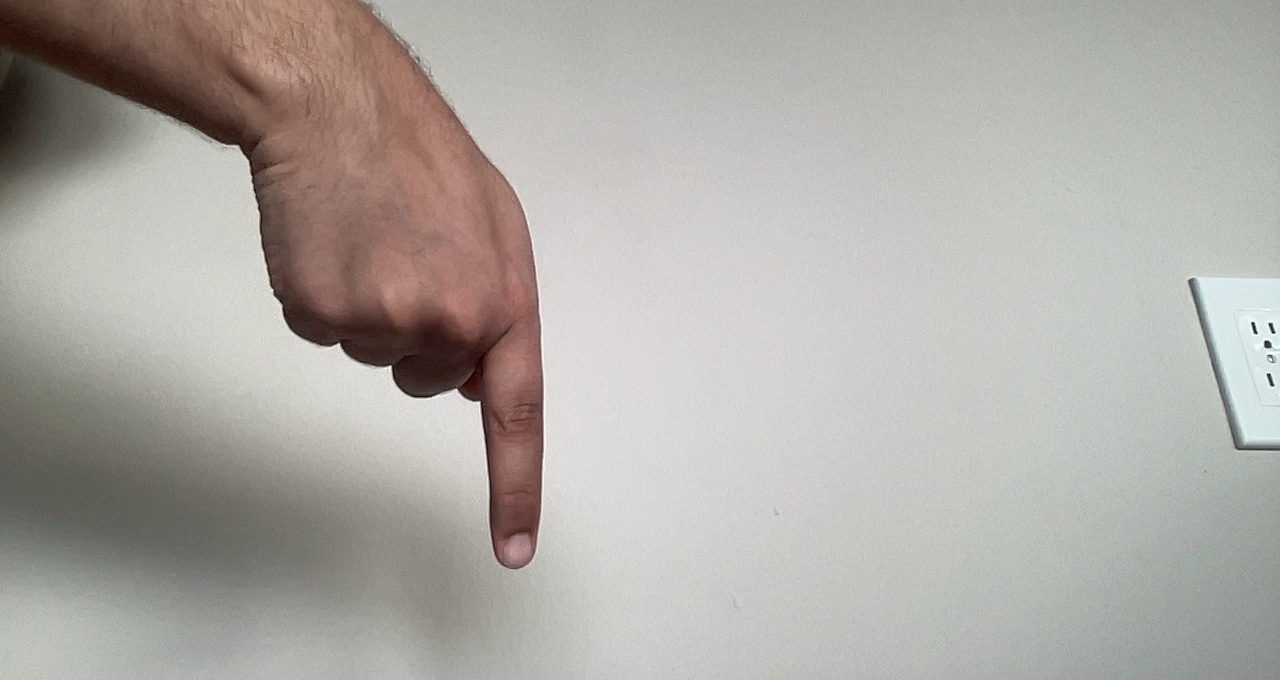fingerdown: (225, 101, 549, 574)
